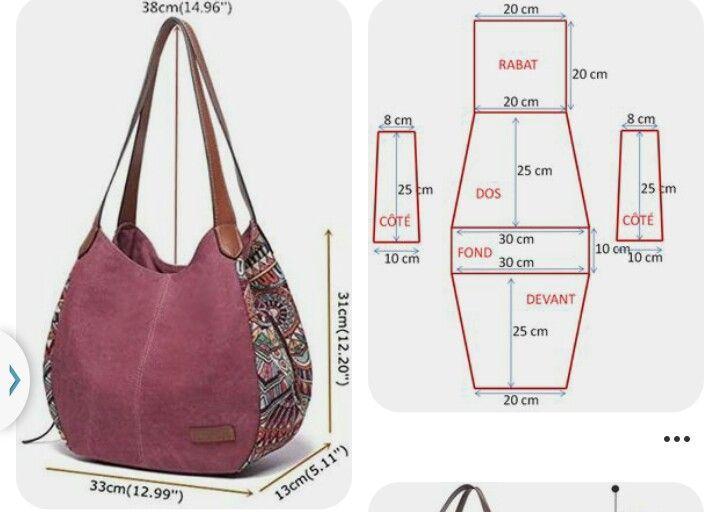cuero: (78, 17, 263, 260)
